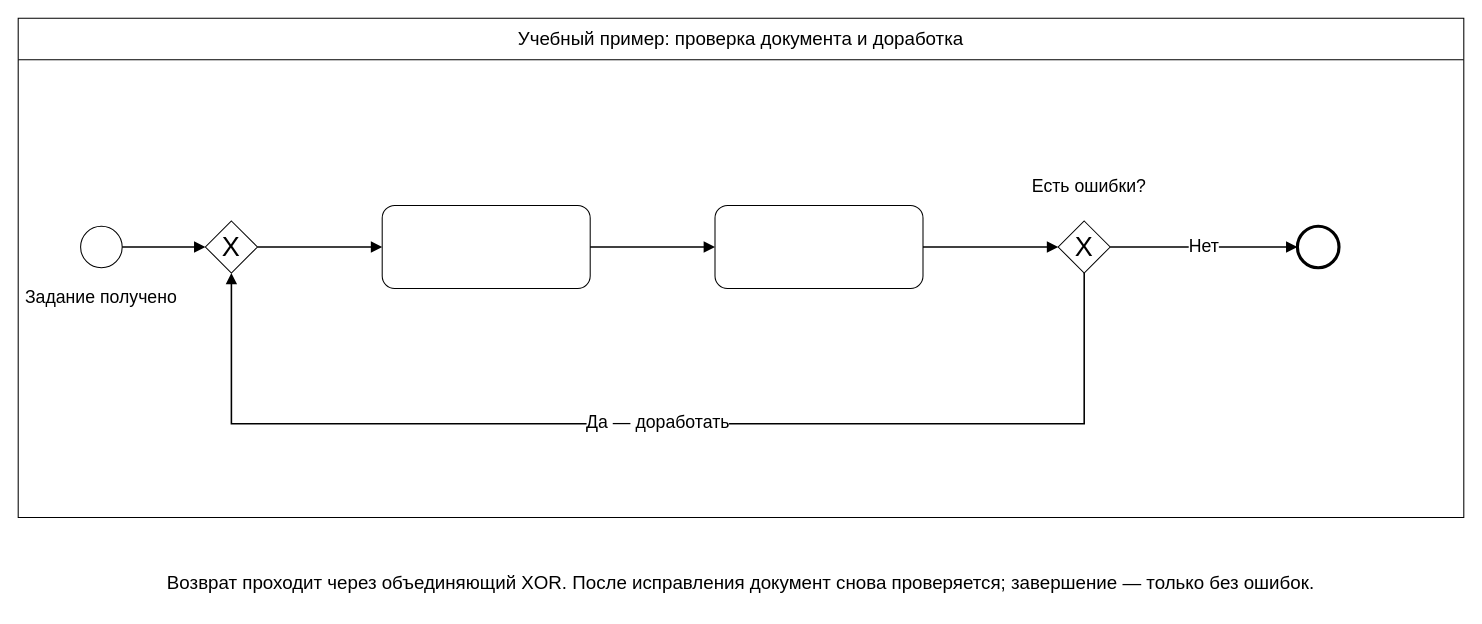
This 1482x624 diagram has some shape labels left out. Here are the shapes that lost their labels. From the top down, the centre of each, then its label:
At point 485,246: "Подготовить проект документа".
At point 818,246: "Проверить проект документа".
At point 1317,246: "Документ принят".
